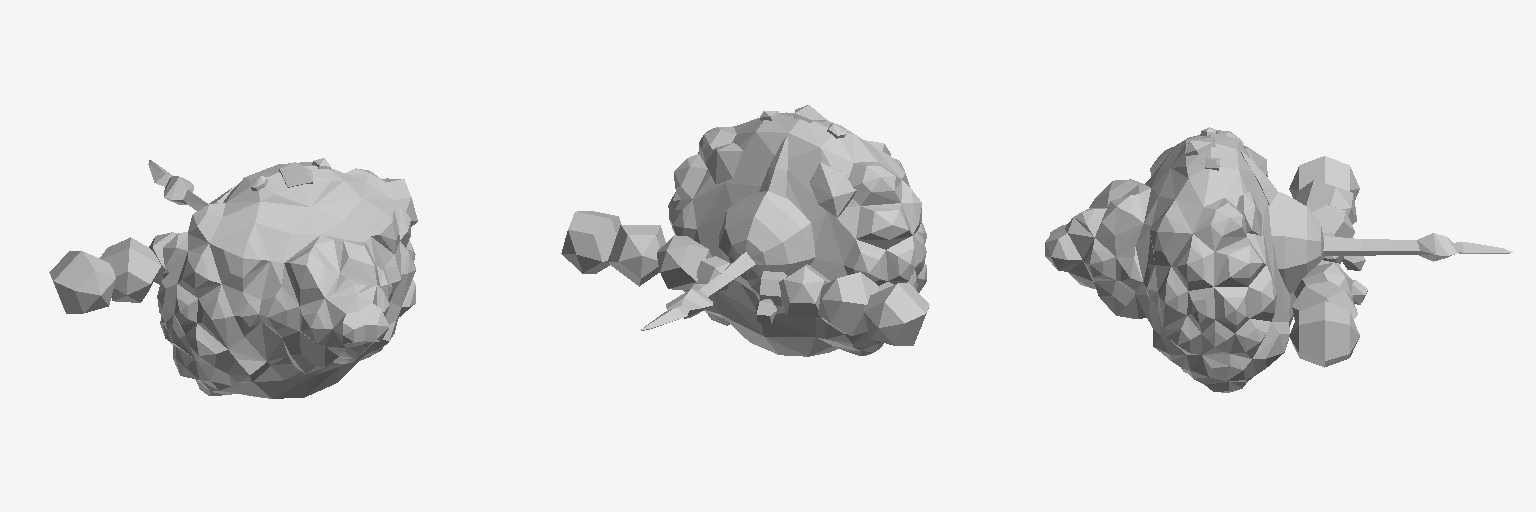
Rendered from BR_Wormadam-Shiny05.obj.
3 renders of one model, left to right at view 1: azimuth 30°, elevation 25°; view 2: azimuth 150°, elevation 25°; view 3: azimuth 270°, elevation 25°, orthographic.
Visible parts, largest first — view 1: minomadam; view 2: minomadam; view 3: minomadam.
Boxes of the visible parts, x1=… form: minomadam: x1=49, y1=158, x2=417, y2=398; minomadam: x1=561, y1=105, x2=929, y2=356; minomadam: x1=1045, y1=127, x2=1512, y2=392.
Bounding box in the file's own units: 4.41 × 2.74 × 4.98.